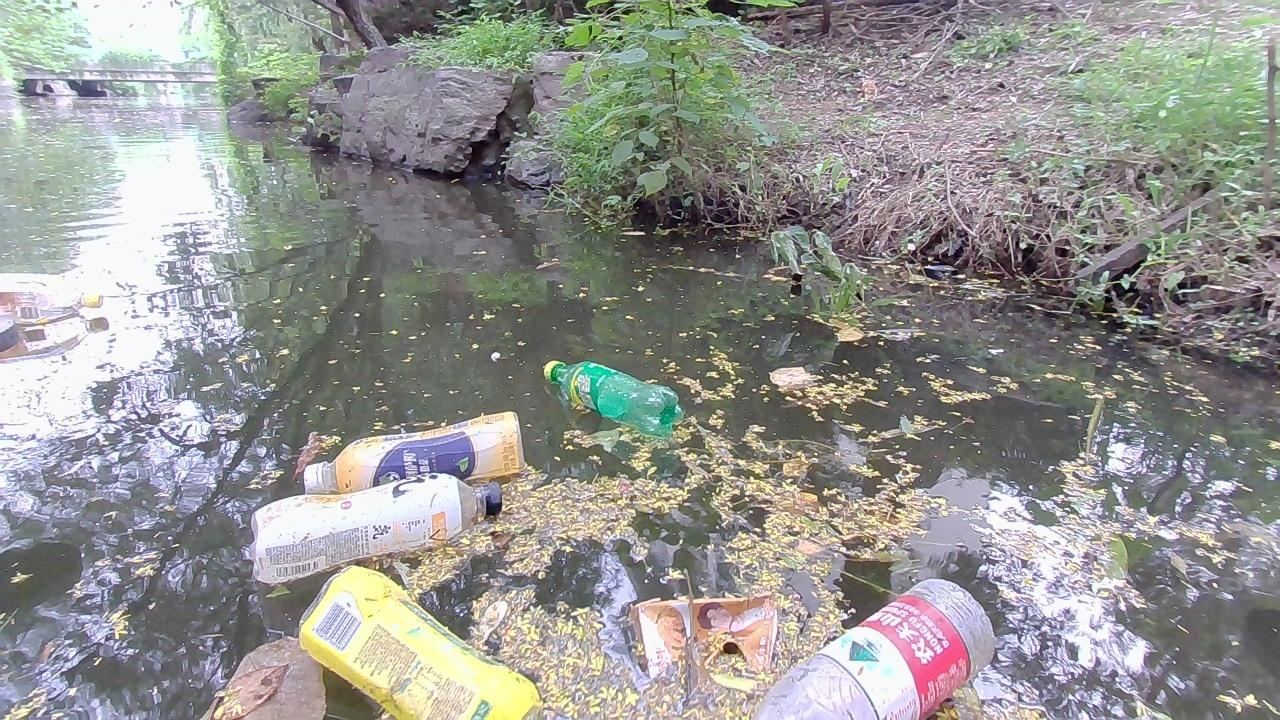bottle: (301, 563, 557, 719), (749, 578, 990, 716), (245, 473, 503, 576), (304, 411, 521, 498), (632, 591, 780, 686), (544, 354, 684, 436), (0, 272, 97, 314)
